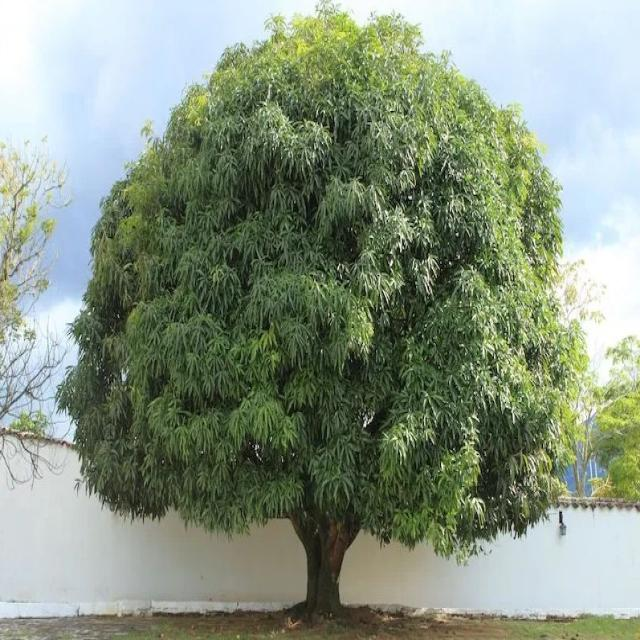Mango-Tree: (59, 3, 594, 596)
